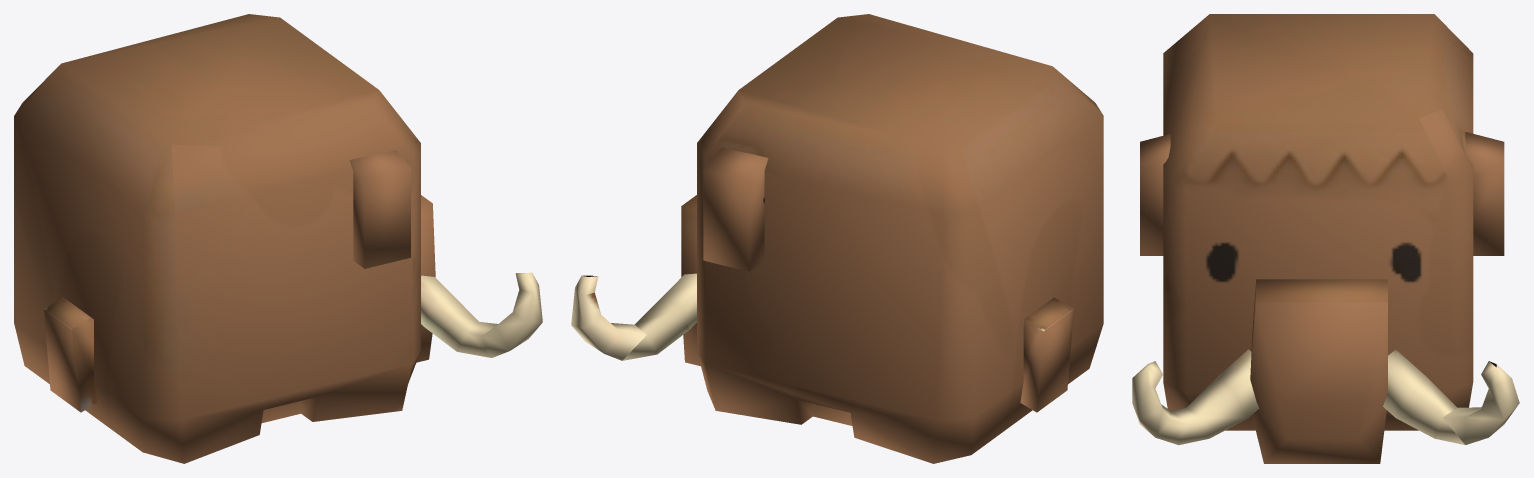
3 renders of one model, left to right at view 1: azimuth 30°, elevation 25°; view 2: azimuth 150°, elevation 25°; view 3: azimuth 270°, elevation 25°, orthographic.
Visible parts, largest first — view 1: 2.001, 7.001, 3.001, 5.001, 4.001; view 2: 2.001, 8.002, 5.001, 6.001, 1.001, 4.001; view 3: 2.001, 4.001, 3.001, 8.002, 6.001, 1.001, 7.001.
Part boxes in pixels (left/top/right/bottom): 2.001: left=14, top=14, right=420, bottom=463; 7.001: left=349, top=150, right=410, bottom=268; 3.001: left=421, top=272, right=542, bottom=357; 5.001: left=44, top=297, right=97, bottom=412; 4.001: left=416, top=195, right=435, bottom=362; 2.001: left=697, top=14, right=1103, bottom=463; 8.002: left=703, top=148, right=768, bottom=271; 5.001: left=1020, top=297, right=1073, bottom=412; 6.001: left=622, top=273, right=696, bottom=360; 1.001: left=571, top=275, right=646, bottom=360; 4.001: left=681, top=195, right=700, bottom=366; 2.001: left=1163, top=14, right=1473, bottom=430; 4.001: left=1250, top=279, right=1387, bottom=463; 3.001: left=1132, top=349, right=1259, bottom=445; 8.002: left=1465, top=132, right=1504, bottom=255; 6.001: left=1383, top=349, right=1464, bottom=444; 1.001: left=1442, top=361, right=1519, bottom=444; 7.001: left=1140, top=134, right=1170, bottom=255.
Size of the model in its own units: 0.1174 by 0.0861 by 0.0978.
1 material, 1 textured.
